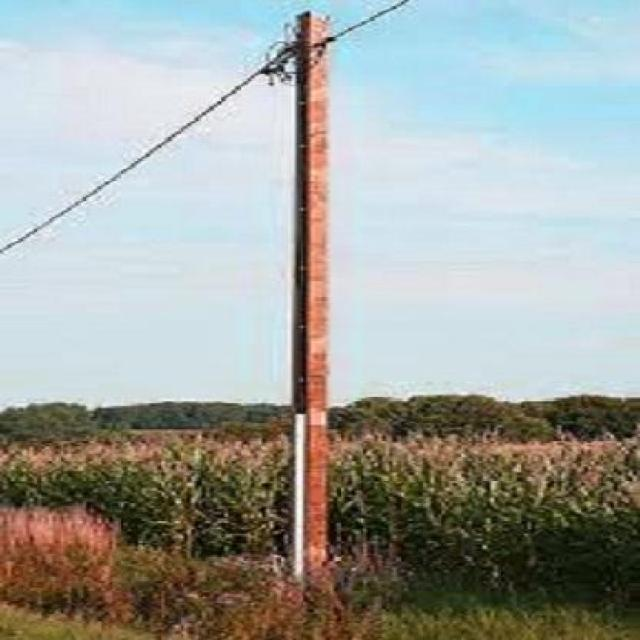non-critical vegetation: (232, 0, 373, 575)
